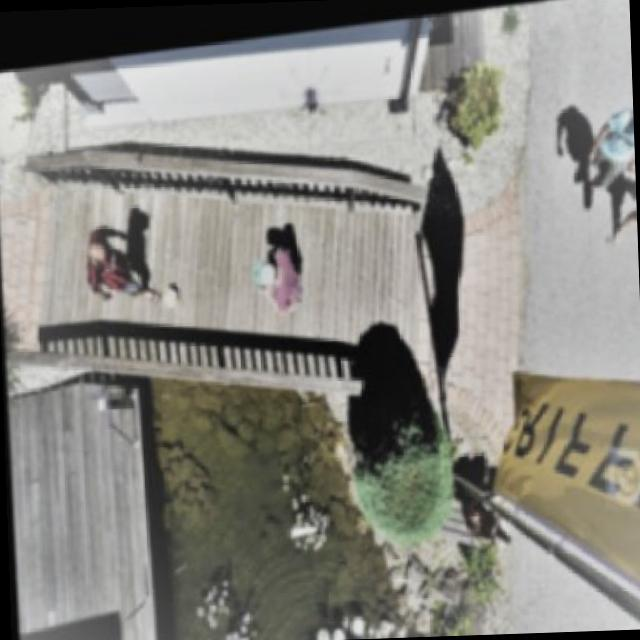Person: (84, 208, 161, 312), (574, 93, 636, 212), (254, 230, 311, 312), (600, 159, 638, 245)
